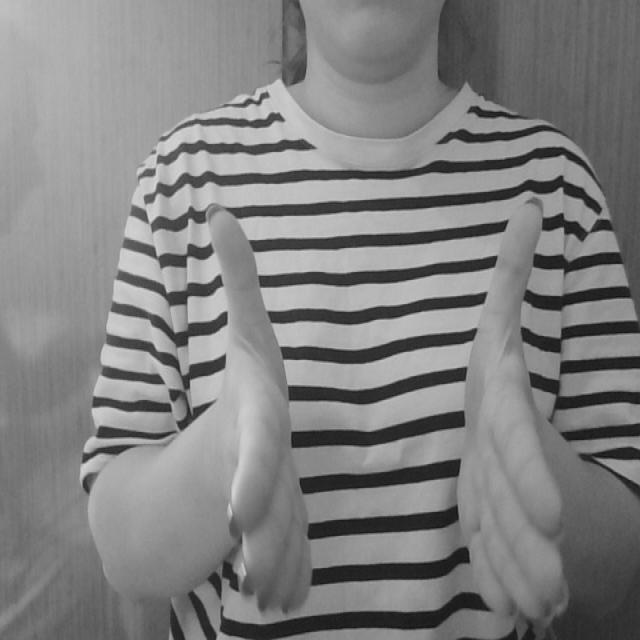Nasil: (192, 194, 582, 639)
